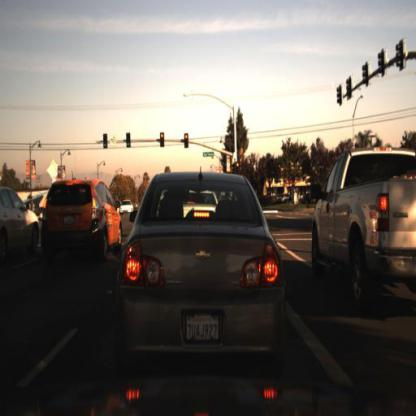car: (120, 173, 285, 370), (312, 148, 415, 305), (41, 174, 122, 268), (1, 179, 42, 267), (119, 198, 136, 218)
trafficLight-GreenLeft: (103, 130, 111, 151), (125, 131, 133, 152)
trafficLight-Red: (160, 130, 168, 149), (183, 133, 191, 152), (234, 161, 241, 179)
